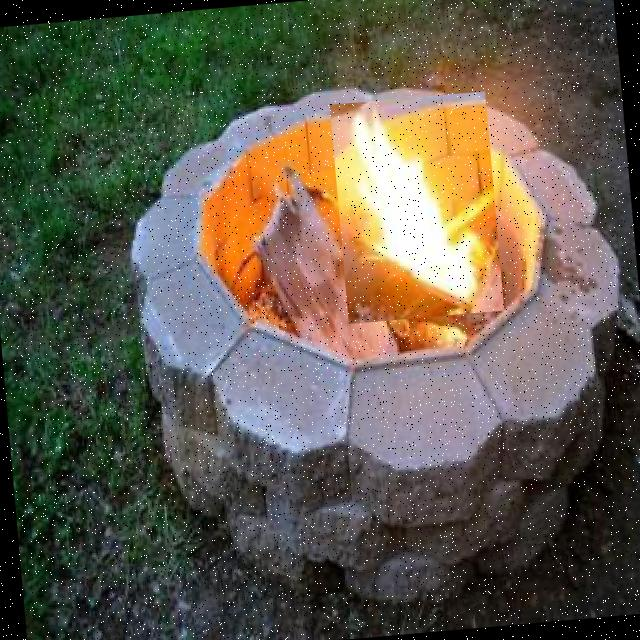fire: (329, 90, 504, 324)
